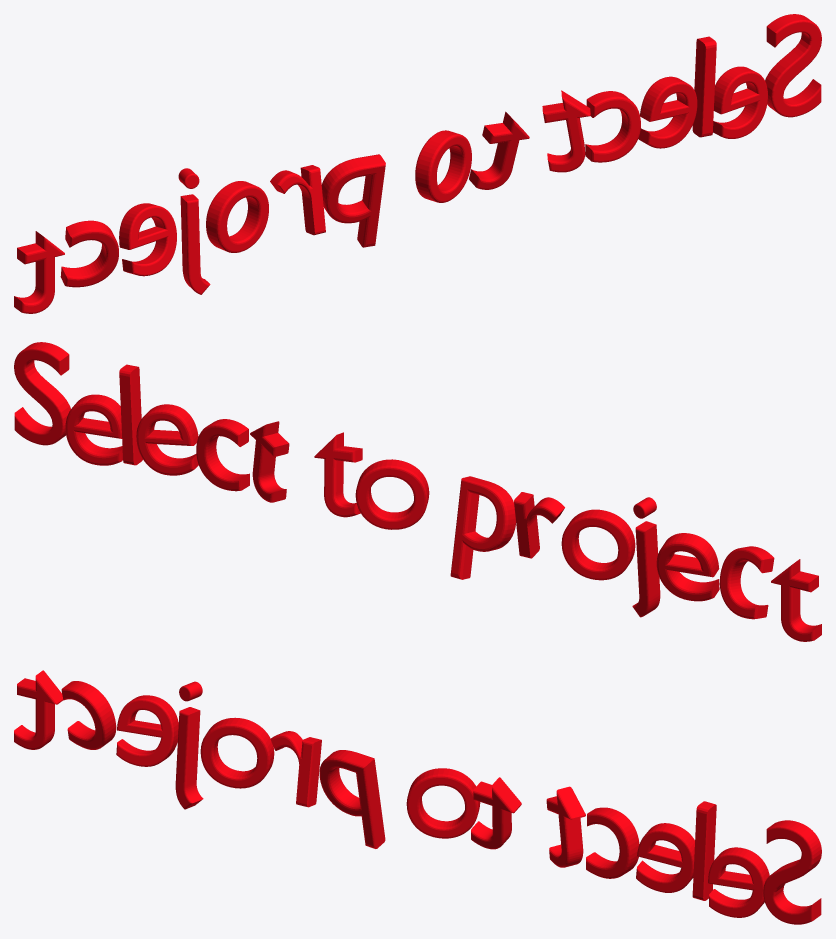
Rendered from zaglushka.gltf.
The picture shows the model from 3 angles, top to bottom: view 1: azimuth 30°, elevation 25°; view 2: azimuth 150°, elevation 25°; view 3: azimuth 330°, elevation 25°; orthographic projection.
Visible parts, largest first — view 1: zaglushka; view 2: zaglushka; view 3: zaglushka.
Part boxes in pixels (bbox=[...]): zaglushka: bbox=[14, 14, 821, 313]; zaglushka: bbox=[14, 342, 821, 641]; zaglushka: bbox=[14, 670, 821, 924].
Bounding box in the file's own units: 6.12 × 0.9266 × 0.2966.
